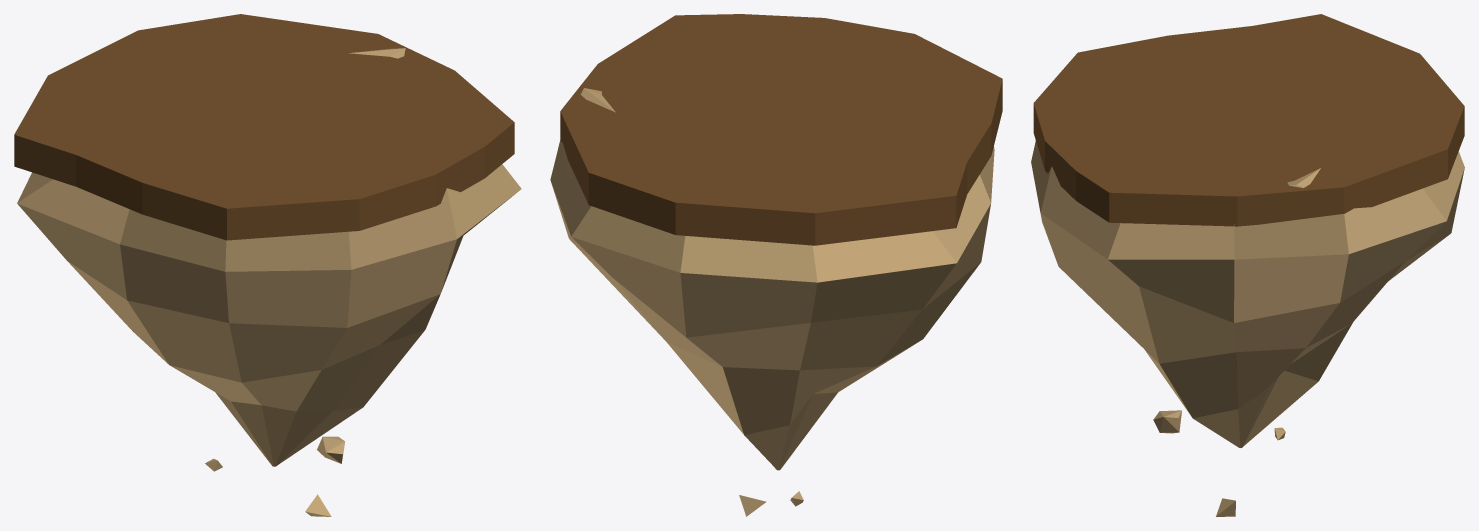
Rendered from Island.fbx.
3 renders of one model, left to right at view 1: azimuth 30°, elevation 25°; view 2: azimuth 150°, elevation 25°; view 3: azimuth 270°, elevation 25°, orthographic. The views are drawn at different scales.
Visible parts, largest first — view 1: top, bottom; view 2: top, bottom; view 3: top, bottom.
Part boxes in pixels (x1,y1,x2,y2): top: [14, 14, 514, 240]; bottom: [17, 48, 521, 516]; top: [560, 14, 1002, 245]; bottom: [550, 88, 994, 516]; top: [1033, 14, 1464, 226]; bottom: [1031, 140, 1464, 516].
Bounding box in the file's own units: 105 × 103 × 104.
